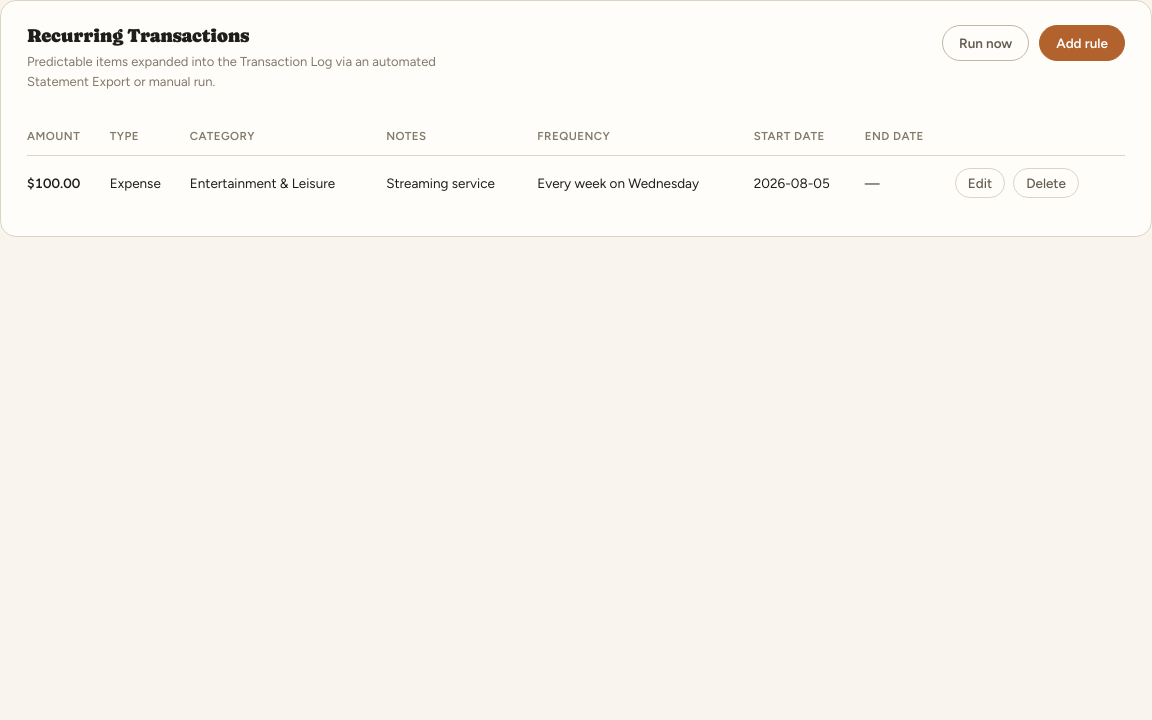
Test: RecurringRules › edits an existing rule in place
The width and height of the screenshot is (1152, 720).
Click the button with aria-label "Edit Streaming service" at (980, 183), box [955, 168, 1005, 198]
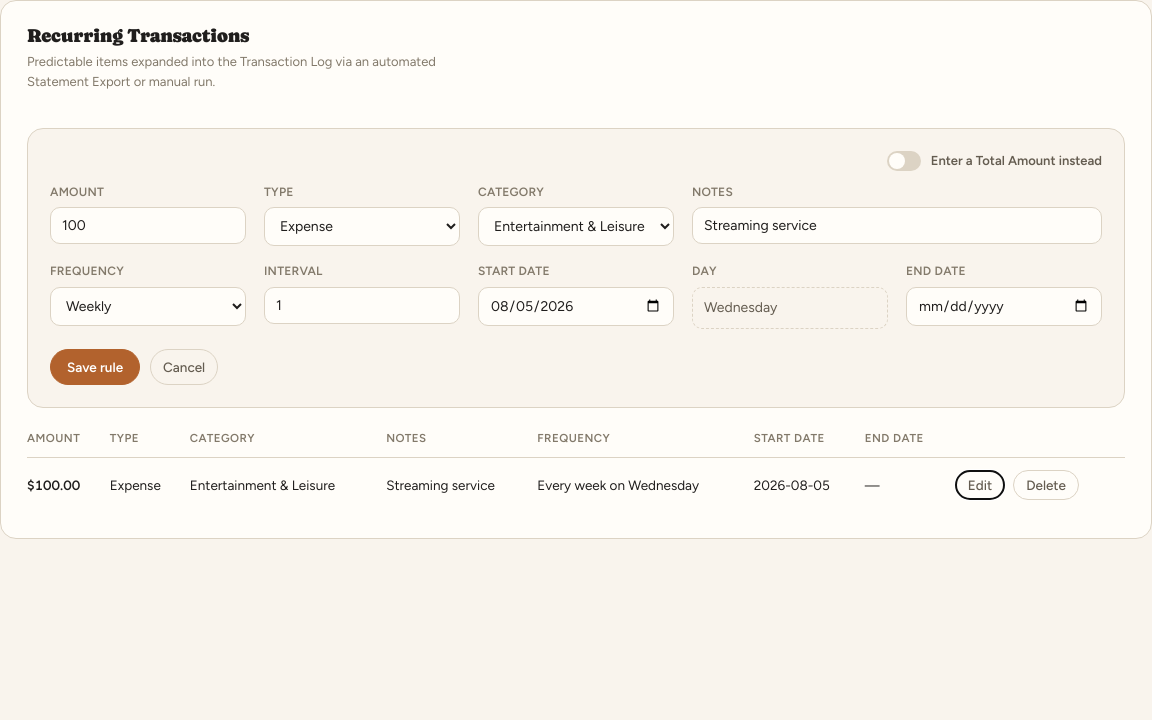
Now the number field labelled "Amount" holds "100"
Replace the text in the number field labelled "Amount" with "150" at (148, 226), box [50, 207, 246, 244]
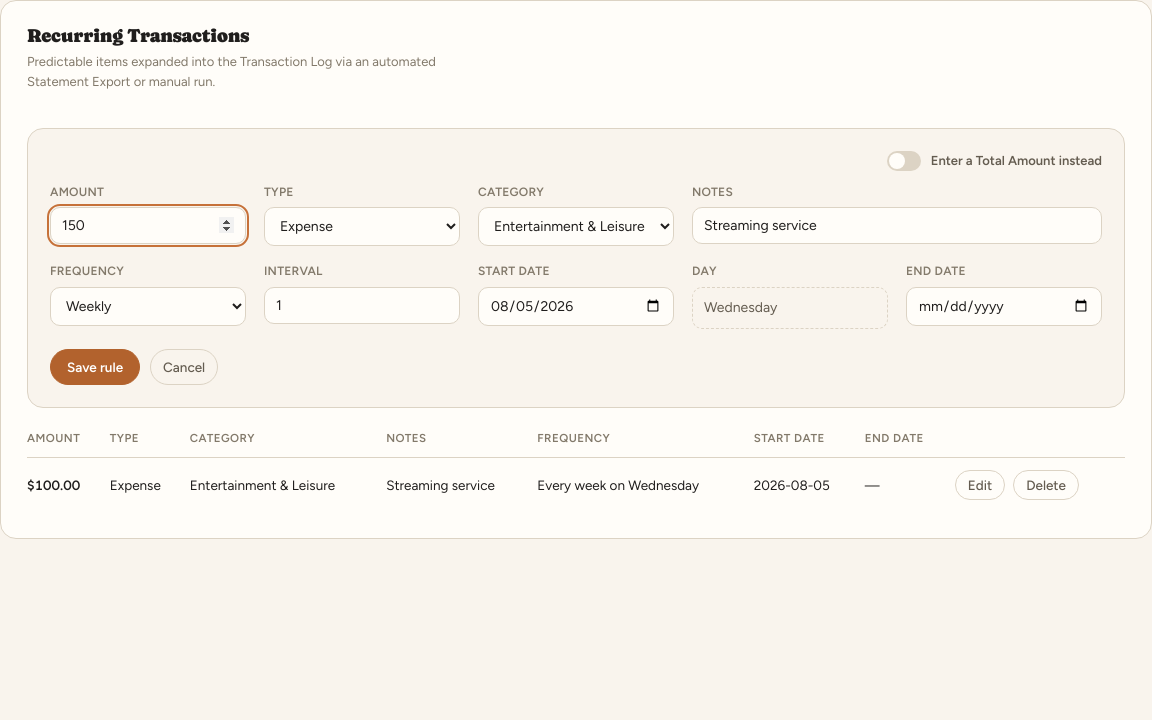
Click the button "Save rule" at (95, 367), box [50, 349, 140, 385]
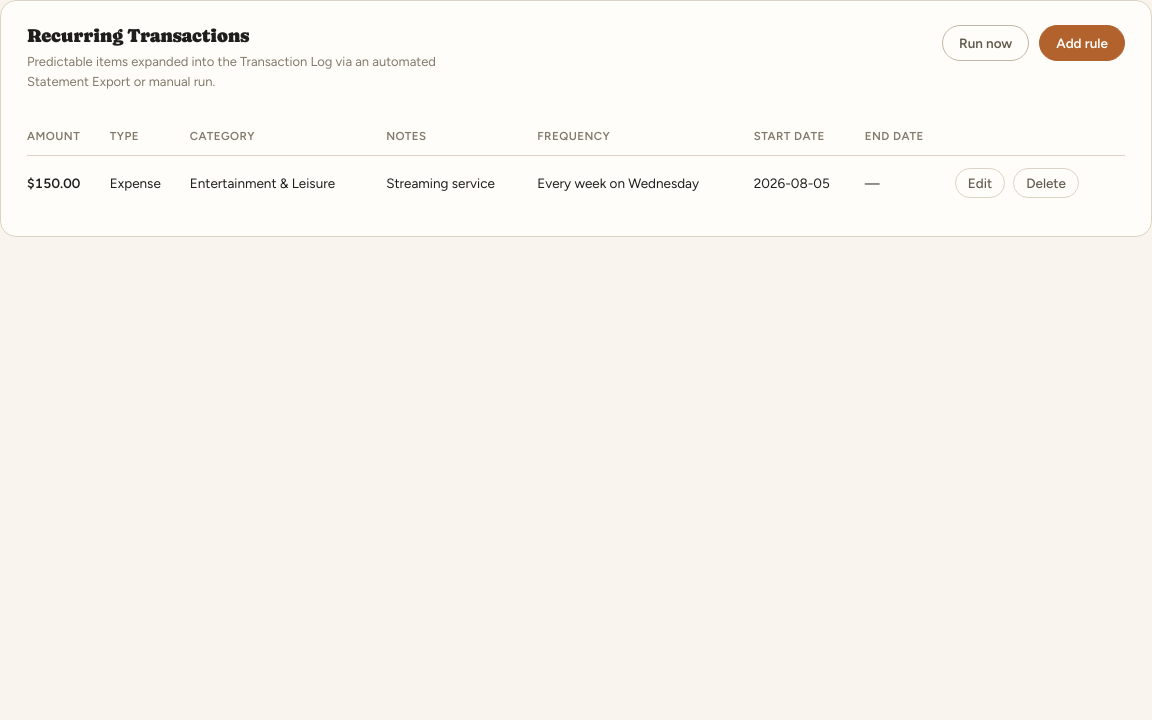
Now the text "$150.00" is shown, box [27, 156, 110, 210]
